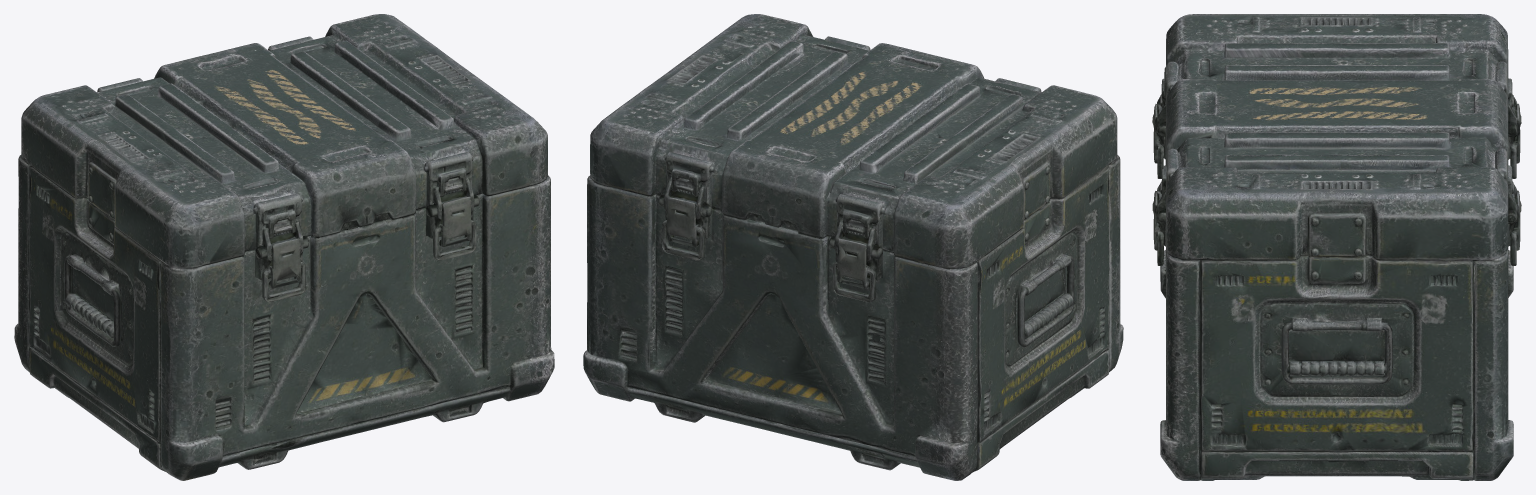
Rendered from prop-supply-crate.glb.
3 renders of one model, left to right at view 1: azimuth 30°, elevation 25°; view 2: azimuth 150°, elevation 25°; view 3: azimuth 270°, elevation 25°, orthographic. The views are drawn at different scales.
Bounding box in the file's own units: 1.9 × 1.29 × 1.47.
1 material, 1 textured.
